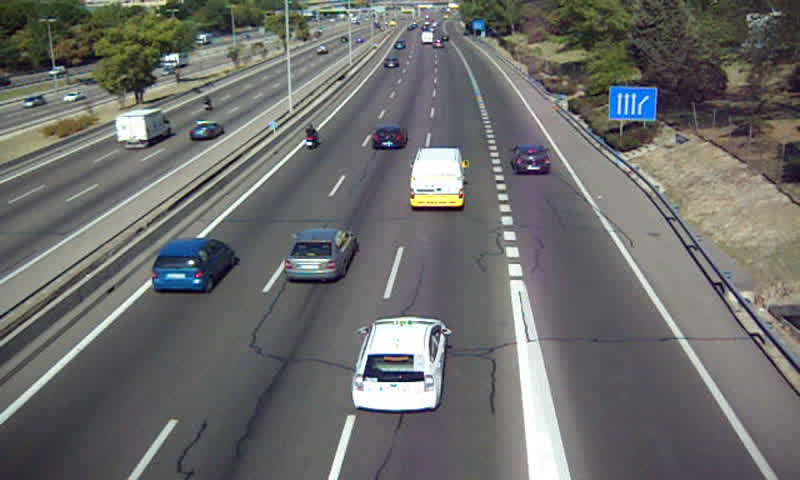car: (353, 317, 447, 411), (150, 238, 234, 293), (283, 229, 356, 282), (510, 143, 553, 174), (371, 124, 410, 150), (381, 58, 401, 71)
motorcycle: (303, 122, 318, 151)
van: (409, 148, 464, 209)
